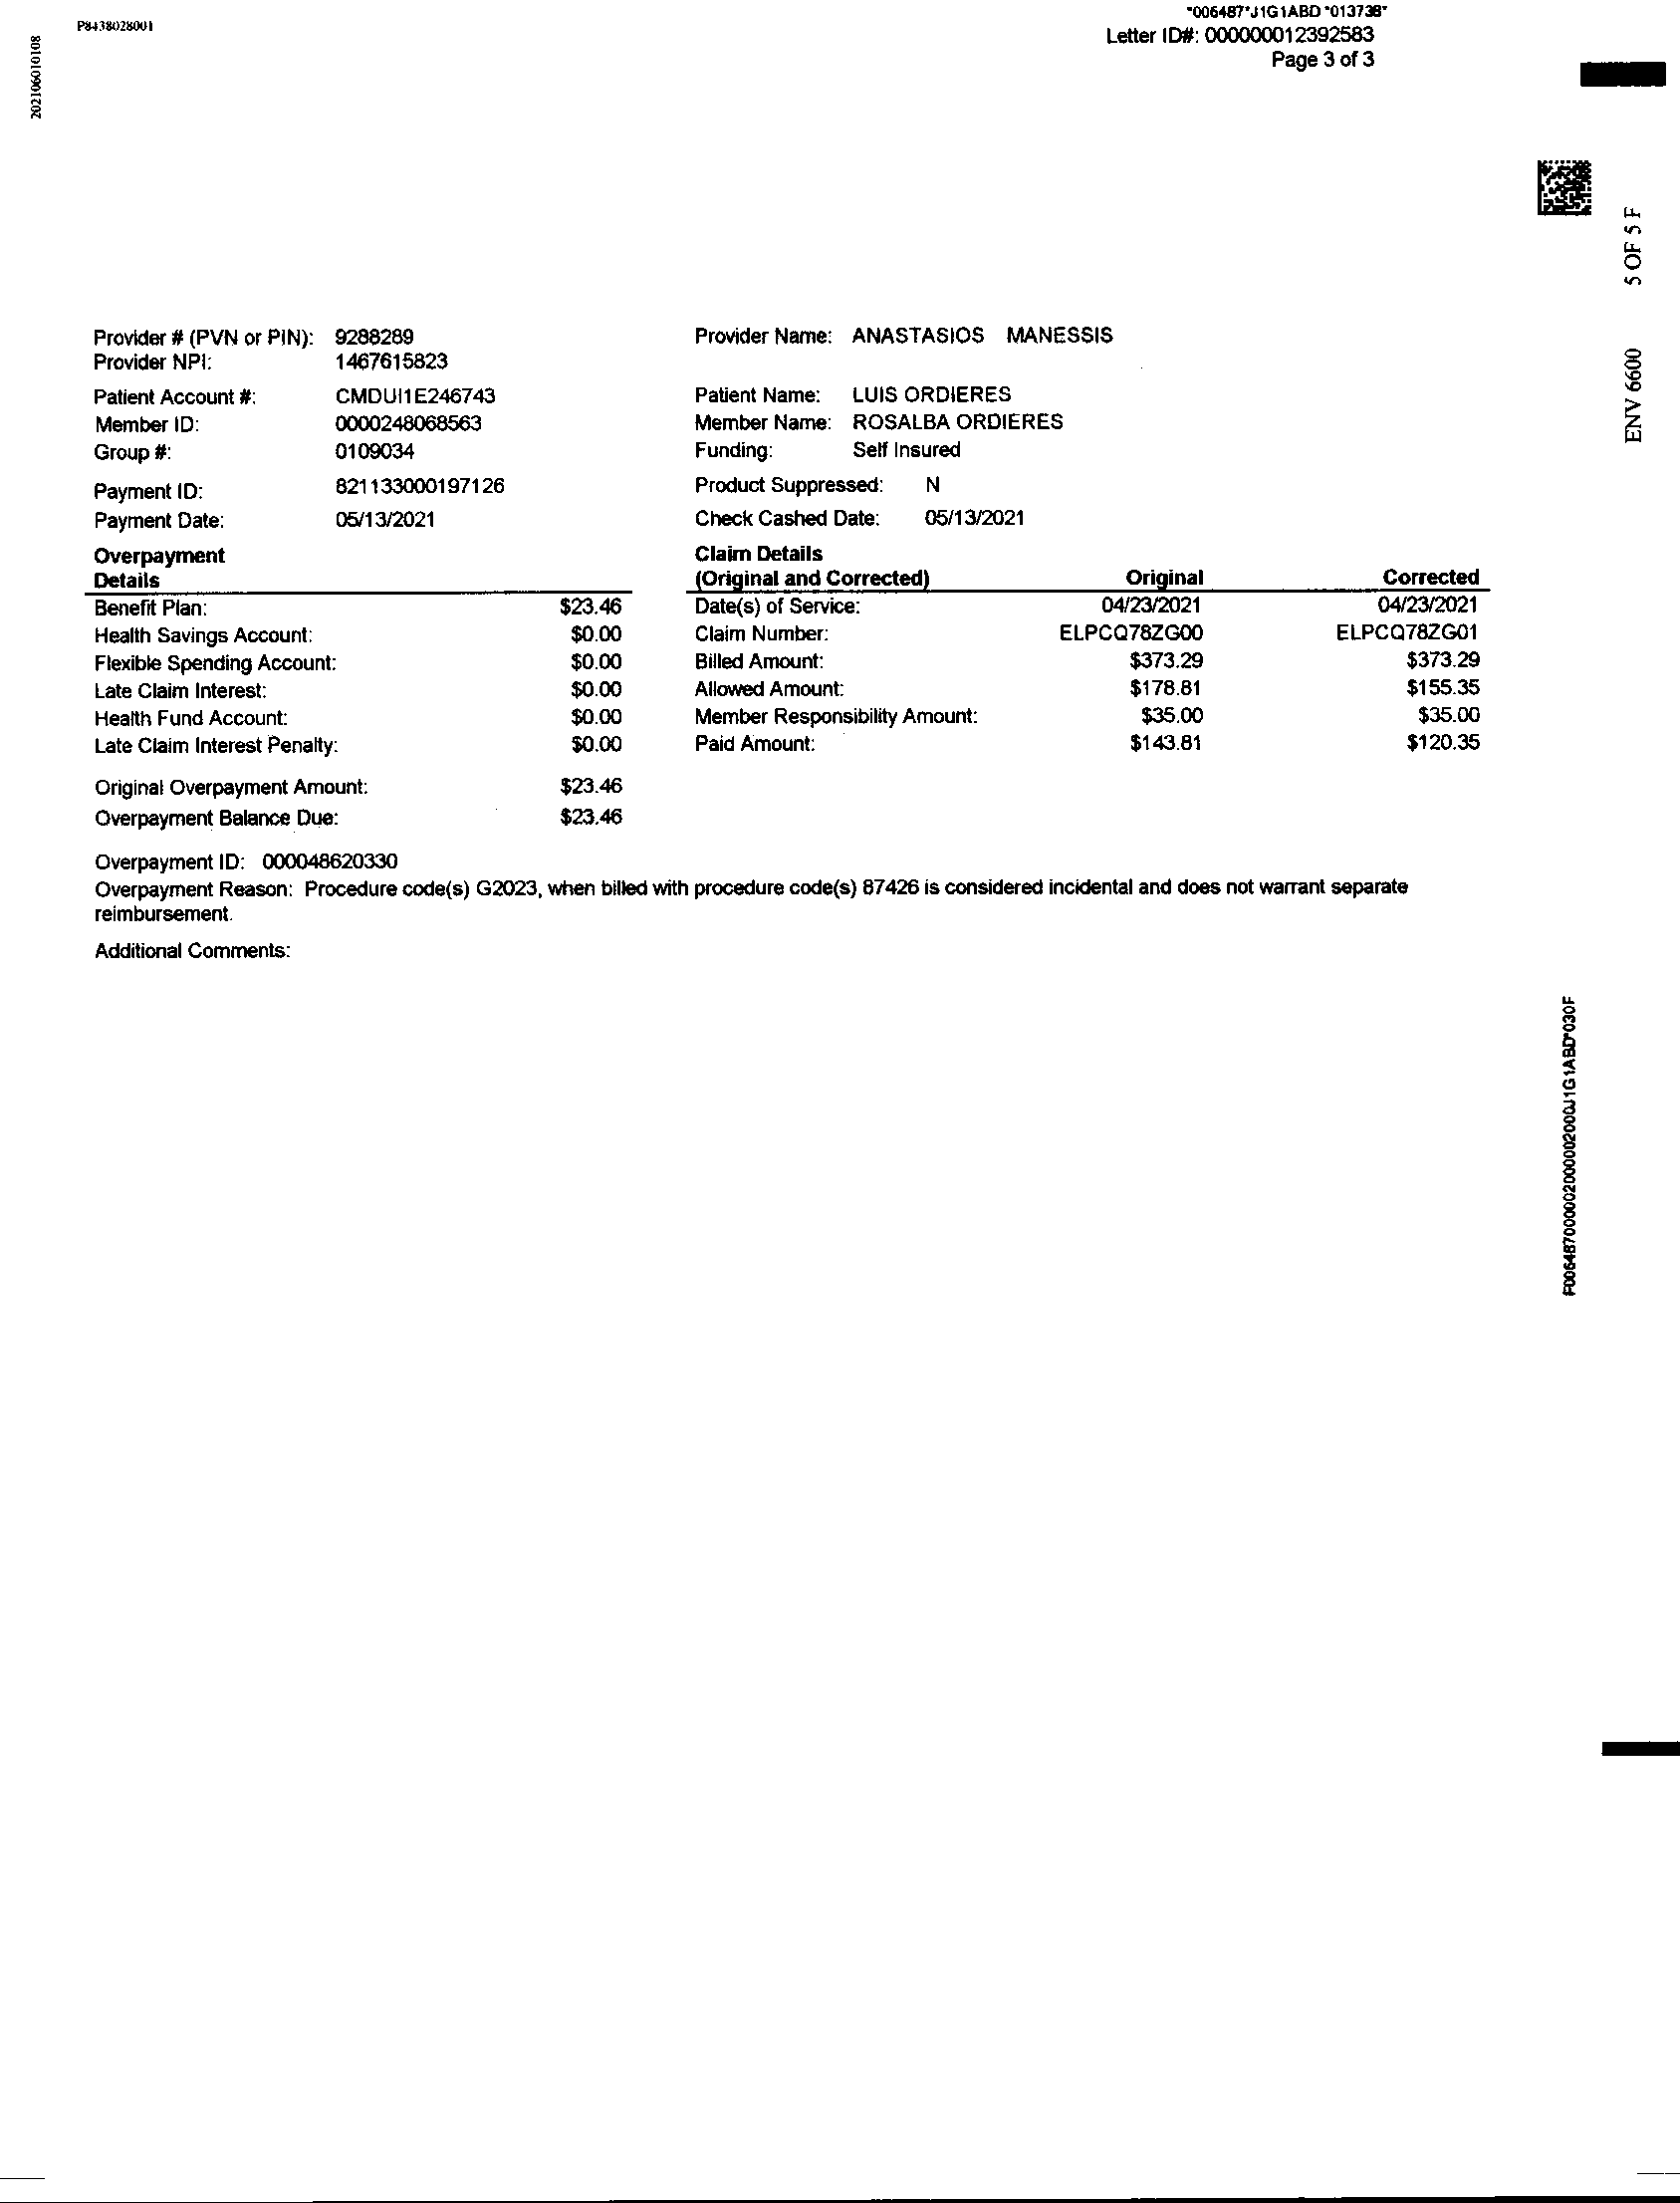data: (76, 305, 522, 547), (681, 307, 1133, 540)
